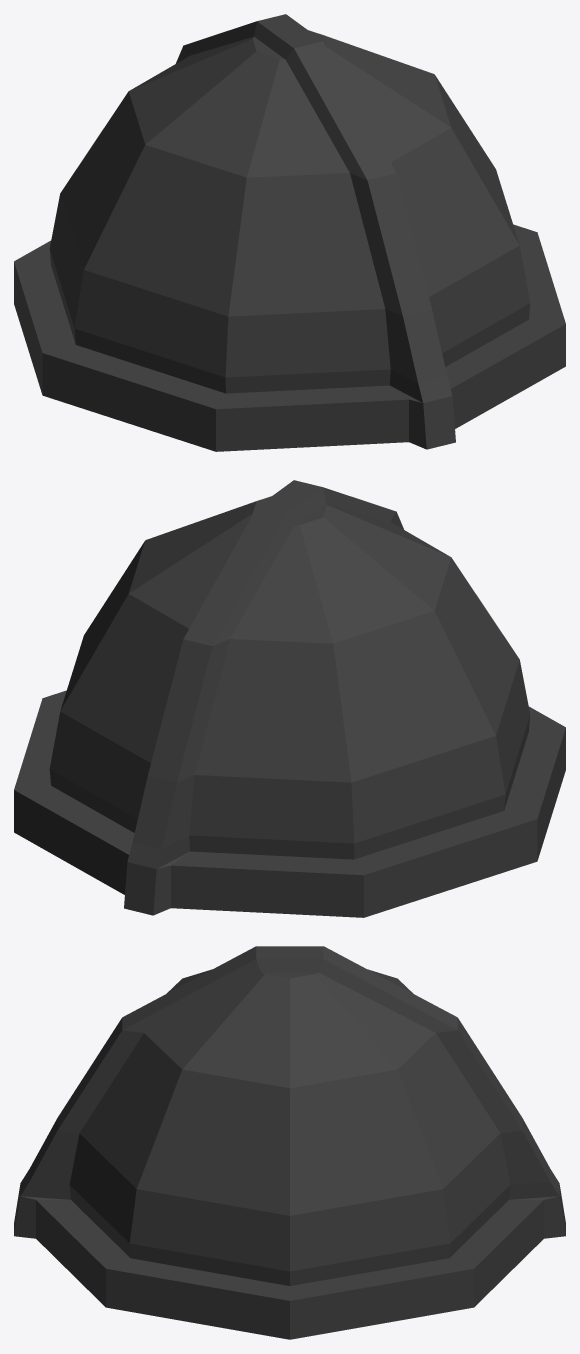
File: VikingBoy_Helmet.fbx
3 views of the same model, one above another, from view 1: azimuth 30°, elevation 25°; view 2: azimuth 150°, elevation 25°; view 3: azimuth 270°, elevation 25° (orthographic). The views are drawn at different scales.
Parts seen in each view (by area): view 1: VikingBoy_Helmet; view 2: VikingBoy_Helmet; view 3: VikingBoy_Helmet.
Part boxes in pixels (left/top/right/bottom): VikingBoy_Helmet: left=14, top=14, right=565, bottom=451; VikingBoy_Helmet: left=14, top=480, right=565, bottom=917; VikingBoy_Helmet: left=14, top=946, right=565, bottom=1339.
Bounding box in the file's own units: 24.47 × 14.36 × 25.93.
